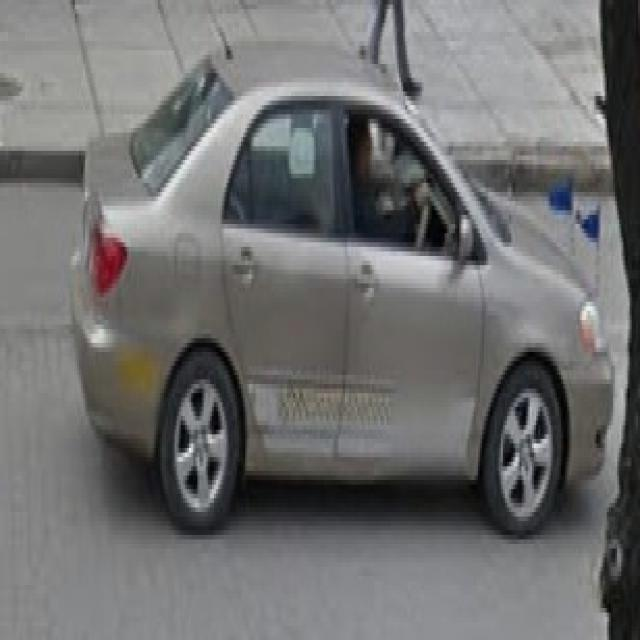Car: (67, 37, 613, 566)
